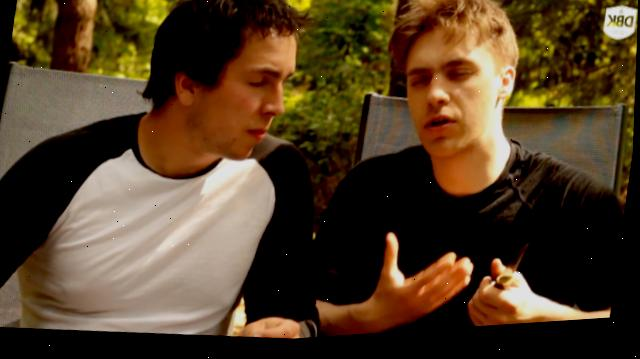pocket-knife: (494, 238, 537, 301)
